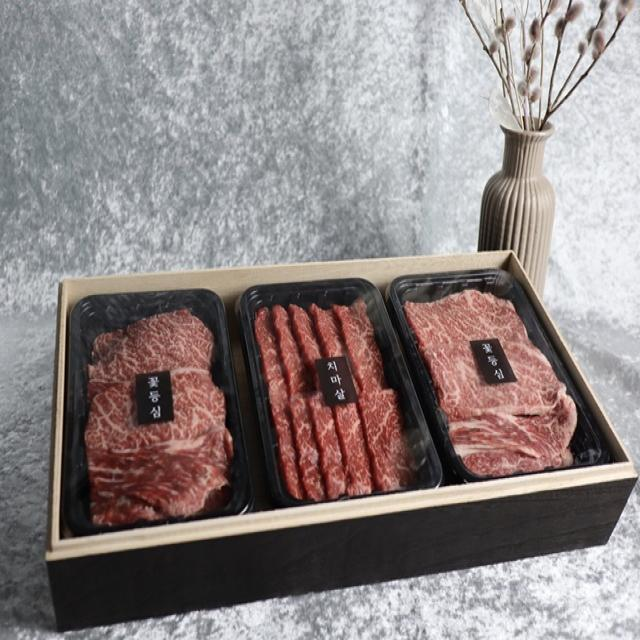beef: (78, 300, 562, 490)
